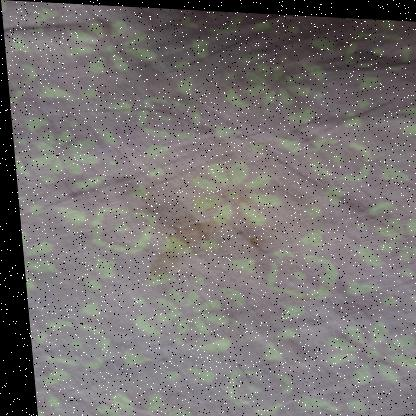spot: (147, 224, 173, 277), (246, 139, 278, 160), (177, 221, 207, 240), (232, 229, 261, 248), (226, 356, 247, 382), (187, 190, 216, 207), (165, 210, 195, 221), (215, 187, 240, 198)
